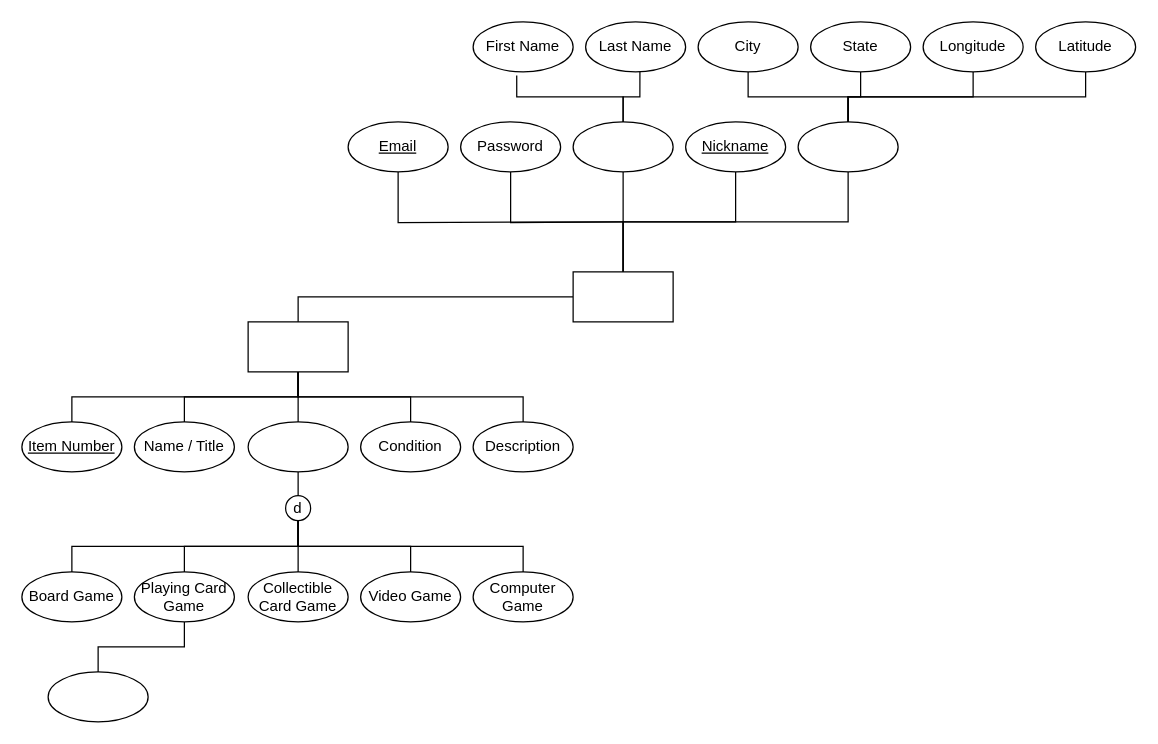
Image size: 1158x744. Some labels were removed from this diagram. The shapes that lost their labels are listed below. From the top down, each one's centre as x and y in pixels, then its label:
At pixel 622 146: "Name".
At pixel 847 146: "Postal Code".
At pixel 622 296: "User".
At pixel 297 346: "Item".
At pixel 297 446: "Game Type".
At pixel 97 696: "# of Cards".
